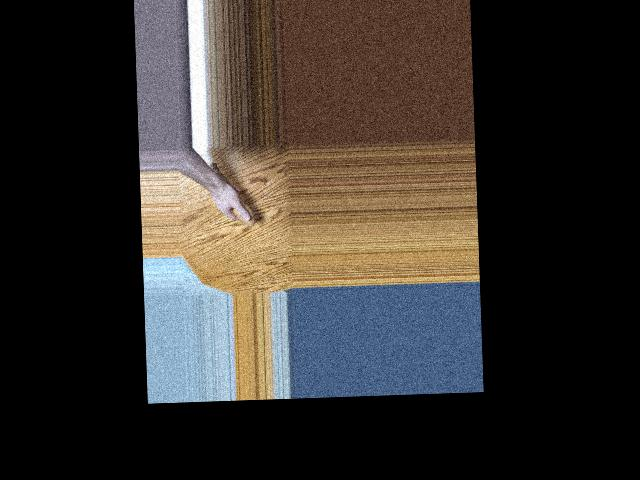sweet_potato: (208, 159, 254, 228)
